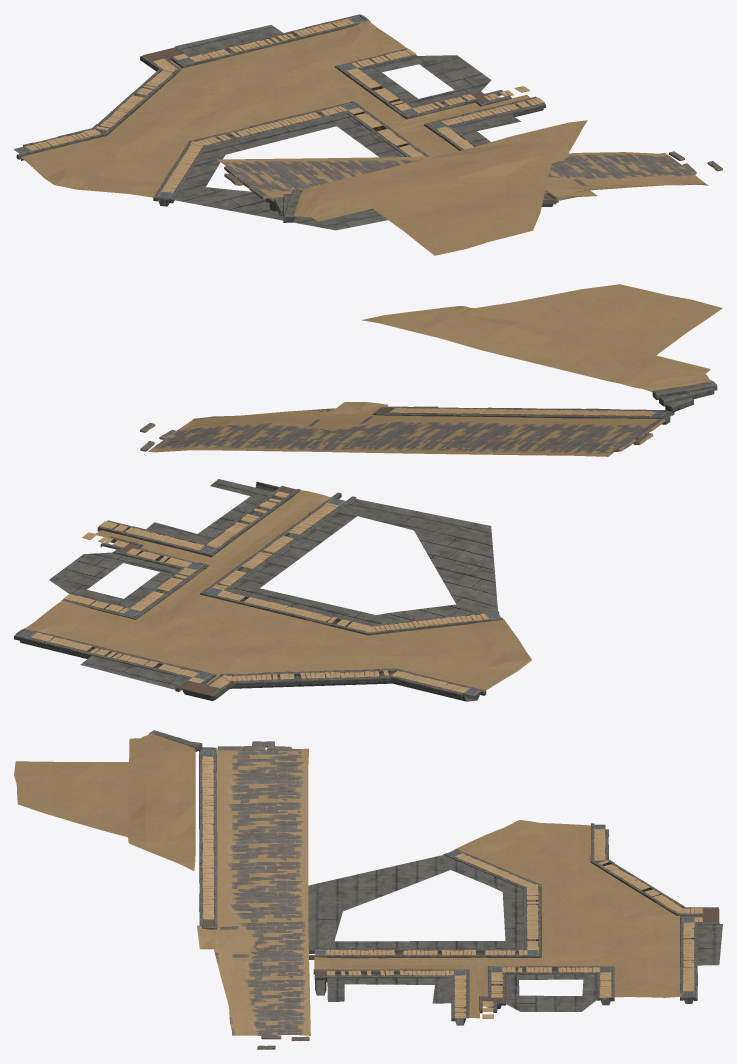
Rendered from SM_ENV_KNVLLG_ground_13.fbx.
3 renders of one model, top to bottom at view 1: azimuth 30°, elevation 25°; view 2: azimuth 150°, elevation 25°; view 3: azimuth 270°, elevation 25°, orthographic. The views are drawn at different scales.
Visible parts, largest first — view 1: SM_ENV_KNVLLG_ground_13.mo; view 2: SM_ENV_KNVLLG_ground_13.mo; view 3: SM_ENV_KNVLLG_ground_13.mo.
Boxes of the visible parts, x1,y1,x2,y2 form: SM_ENV_KNVLLG_ground_13.mo: (14, 14, 722, 255); SM_ENV_KNVLLG_ground_13.mo: (14, 284, 722, 701); SM_ENV_KNVLLG_ground_13.mo: (14, 730, 722, 1049).
Size of the model in its own units: 9699 by 2265 by 12860.
